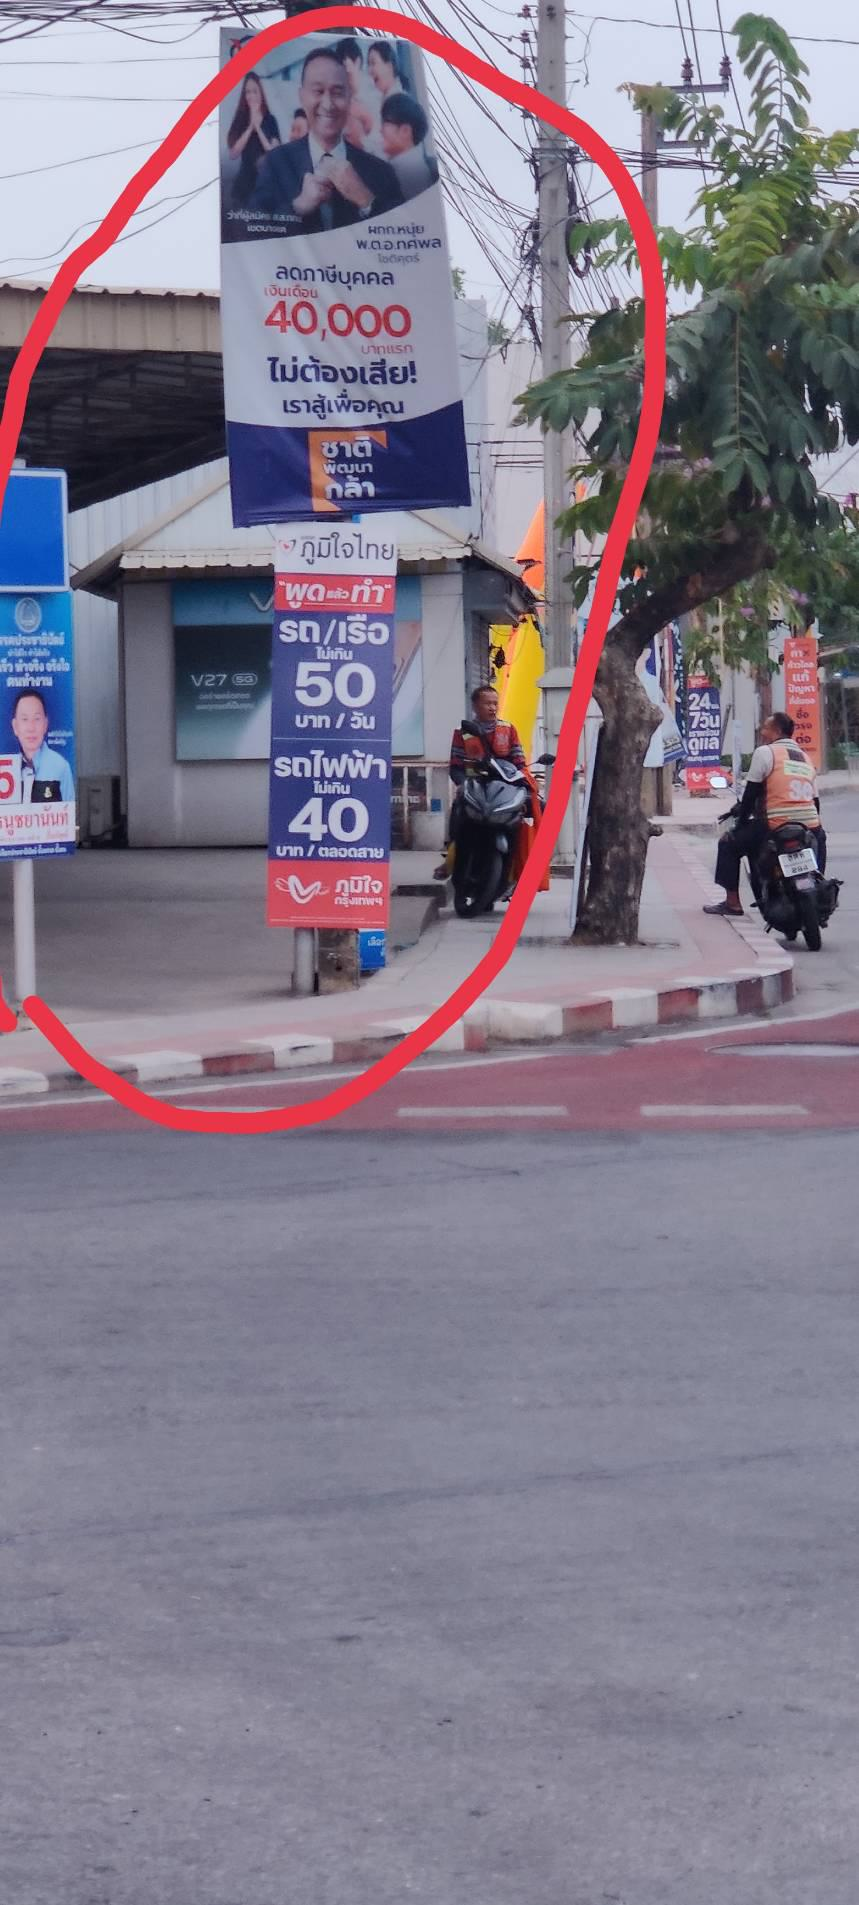Banner: (194, 30, 484, 522), (266, 528, 406, 925), (0, 587, 90, 857)
